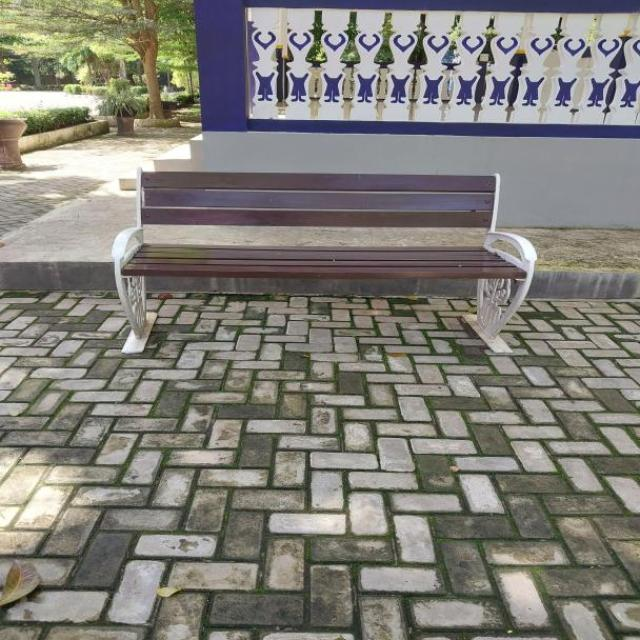bench ahead at: (106, 162, 539, 365)
